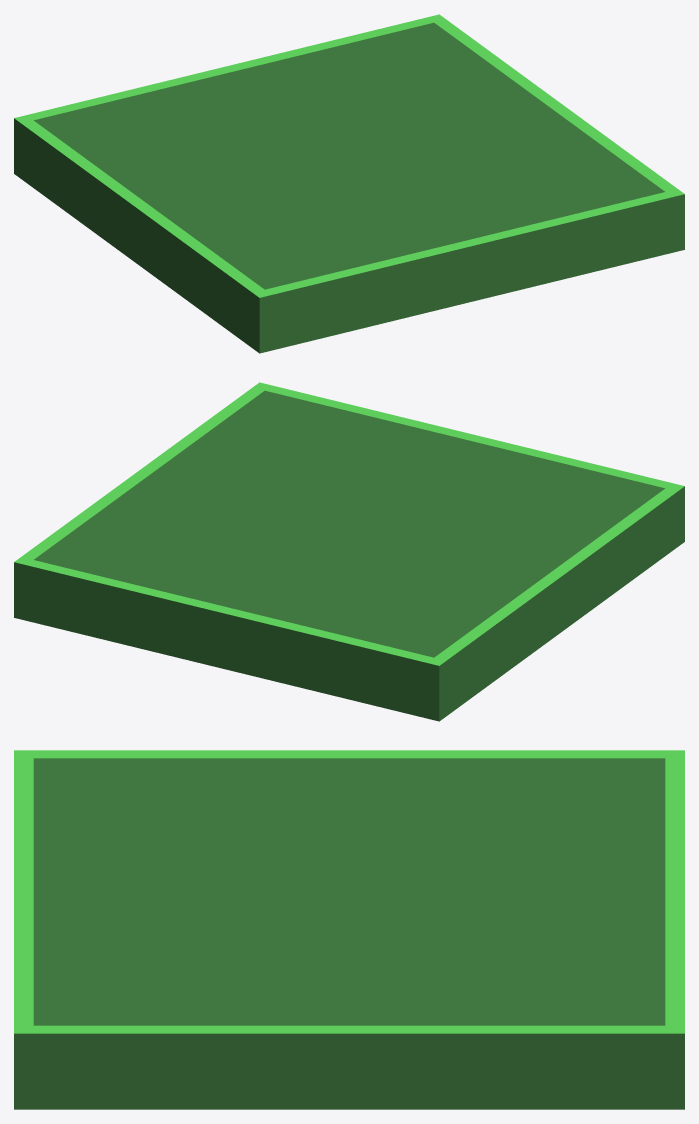
The model's file is tile.fbx.
The picture shows the model from 3 angles, top to bottom: view 1: azimuth 30°, elevation 25°; view 2: azimuth 150°, elevation 25°; view 3: azimuth 270°, elevation 25°; orthographic projection. The views are drawn at different scales.
Parts seen in each view (by area): view 1: Cube; view 2: Cube; view 3: Cube.
Boxes of the visible parts, left/top/right/bottom form: Cube: left=14, top=14, right=684, bottom=353; Cube: left=14, top=382, right=684, bottom=721; Cube: left=14, top=750, right=684, bottom=1109.
Size of the model in its own units: 200 by 25 by 200.
